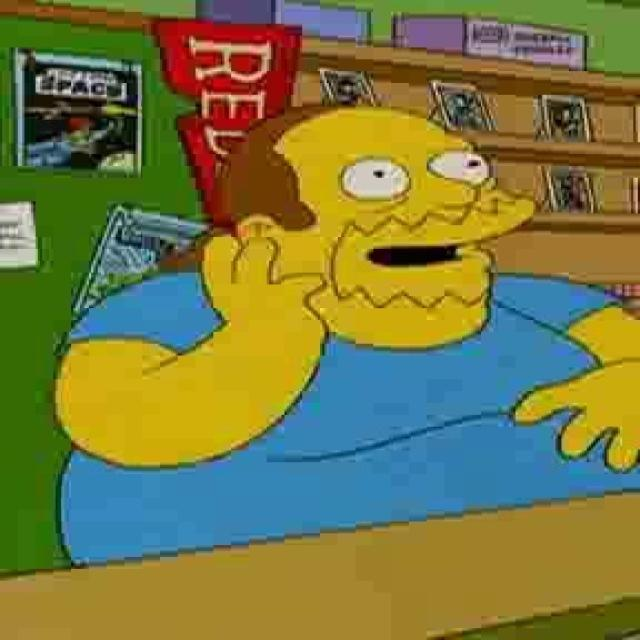Comic Book Guy: (182, 101, 547, 358)
